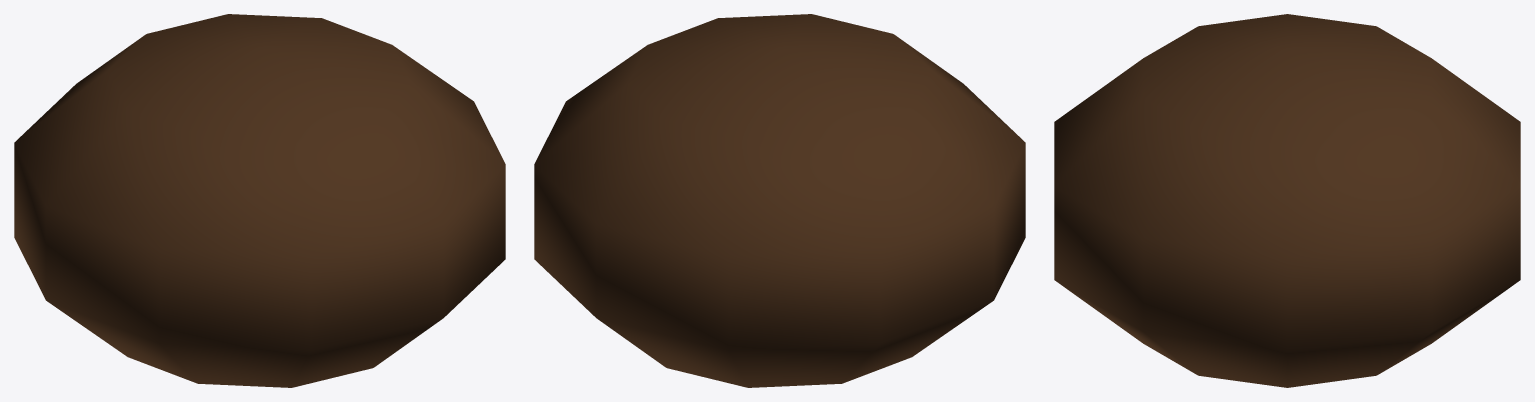
Rendered from crop_pumpkin_seed.glb.
3 renders of one model, left to right at view 1: azimuth 30°, elevation 25°; view 2: azimuth 150°, elevation 25°; view 3: azimuth 270°, elevation 25°, orthographic.
Parts seen in each view (by area): view 1: seed; view 2: seed; view 3: seed.
Boxes of the visible parts, x1,y1,x2,y2 form: seed: (14,14,505,387); seed: (534,14,1025,387); seed: (1054,14,1520,387).
Size of what is drawn, in the model's own units: 0.2283 by 0.156 by 0.2171.
